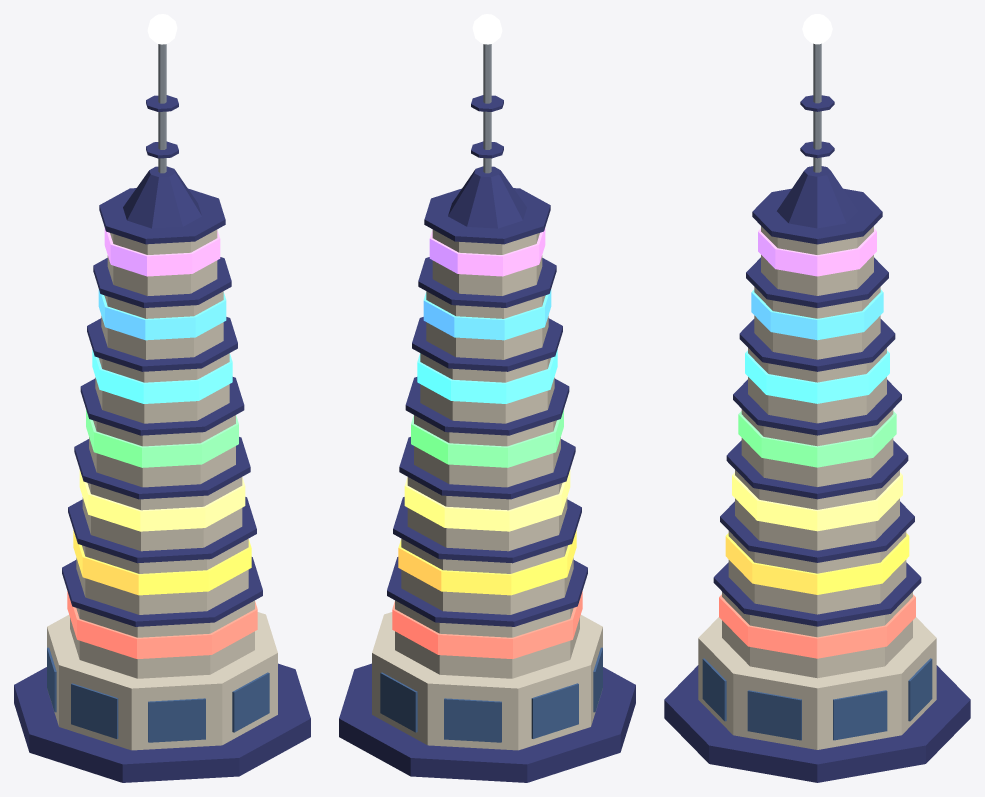
The model's file is landmark_tower.glb.
3 renders of one model, left to right at view 1: azimuth 30°, elevation 25°; view 2: azimuth 150°, elevation 25°; view 3: azimuth 270°, elevation 25°, orthographic.
Parts seen in each view (by area): view 1: landmark_tower; view 2: landmark_tower; view 3: landmark_tower.
Part boxes in pixels (x1,y1,x2,y2): landmark_tower: (14, 14, 310, 782); landmark_tower: (339, 14, 635, 782); landmark_tower: (664, 14, 970, 782).
Size of the model in its own units: 18 by 45.55 by 18.
